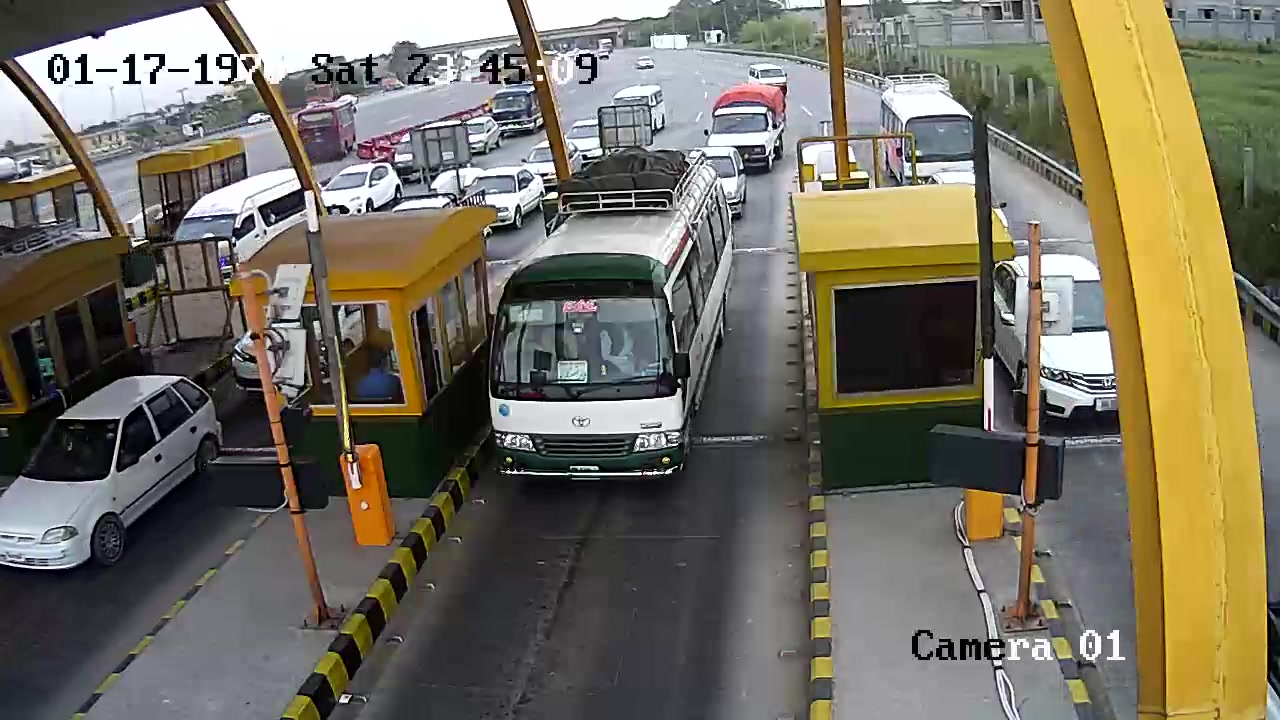F3: (487, 145, 737, 501)
